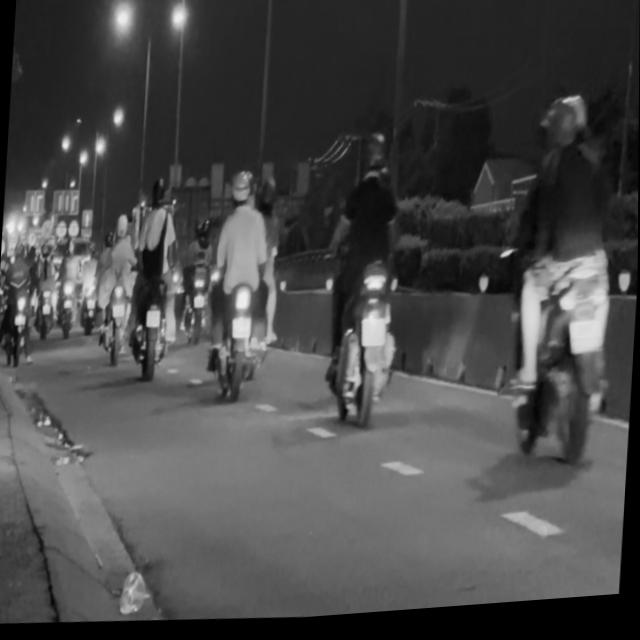helmet: (542, 100, 590, 172), (364, 135, 391, 184), (233, 170, 256, 210)
licenseplate: (496, 90, 630, 485), (320, 130, 412, 436), (204, 165, 283, 411)
nohelmet: (571, 325, 606, 362), (363, 321, 388, 352), (233, 319, 252, 343)
